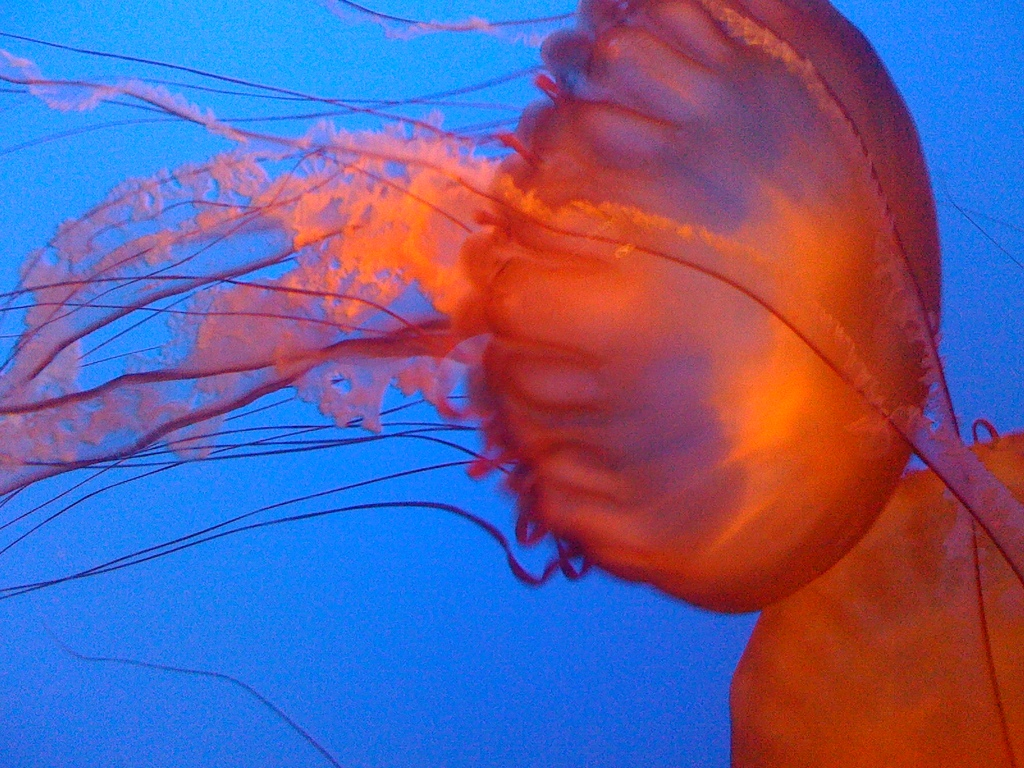Jellyfish: (0, 0, 941, 605), (725, 417, 1023, 767)
